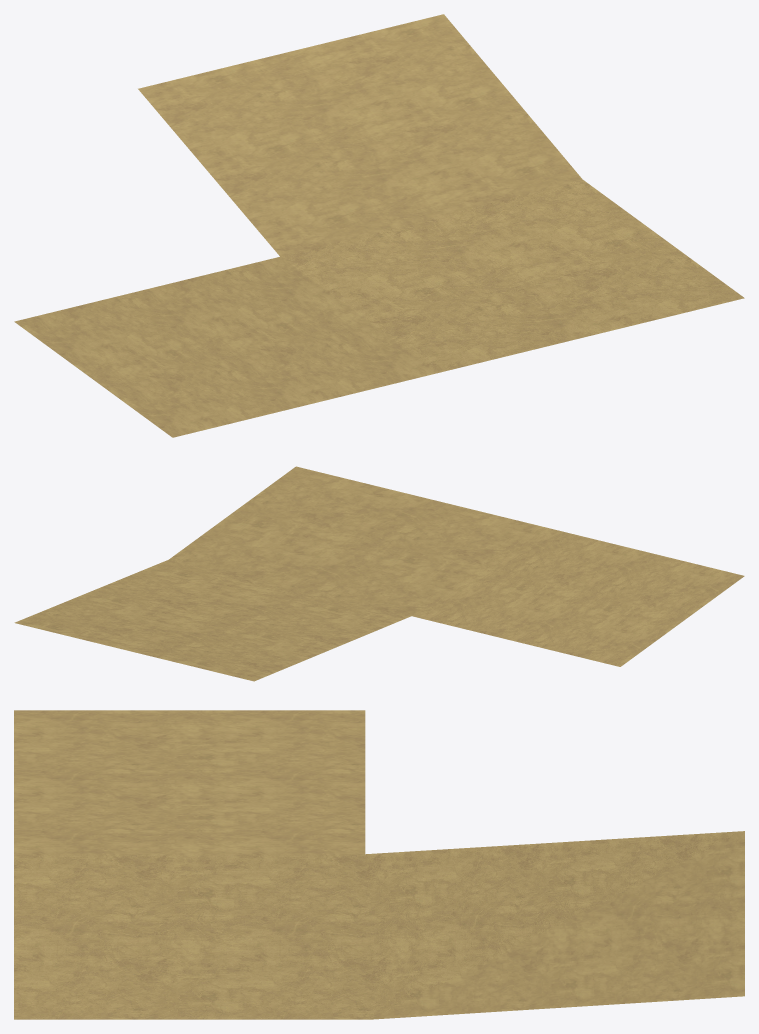
File: side_terain_03.fbx
3 renders of one model, top to bottom at view 1: azimuth 30°, elevation 25°; view 2: azimuth 150°, elevation 25°; view 3: azimuth 270°, elevation 25°, orthographic. The views are drawn at different scales.
Parts seen in each view (by area): view 1: outer_floor_03; view 2: outer_floor_03; view 3: outer_floor_03.
Part boxes in pixels (<box>): outer_floor_03: <box>14,14,744,437</box>; outer_floor_03: <box>14,466,744,681</box>; outer_floor_03: <box>14,710,744,1019</box>.
Bounding box in the file's own units: 1018 × 56.91 × 968.
